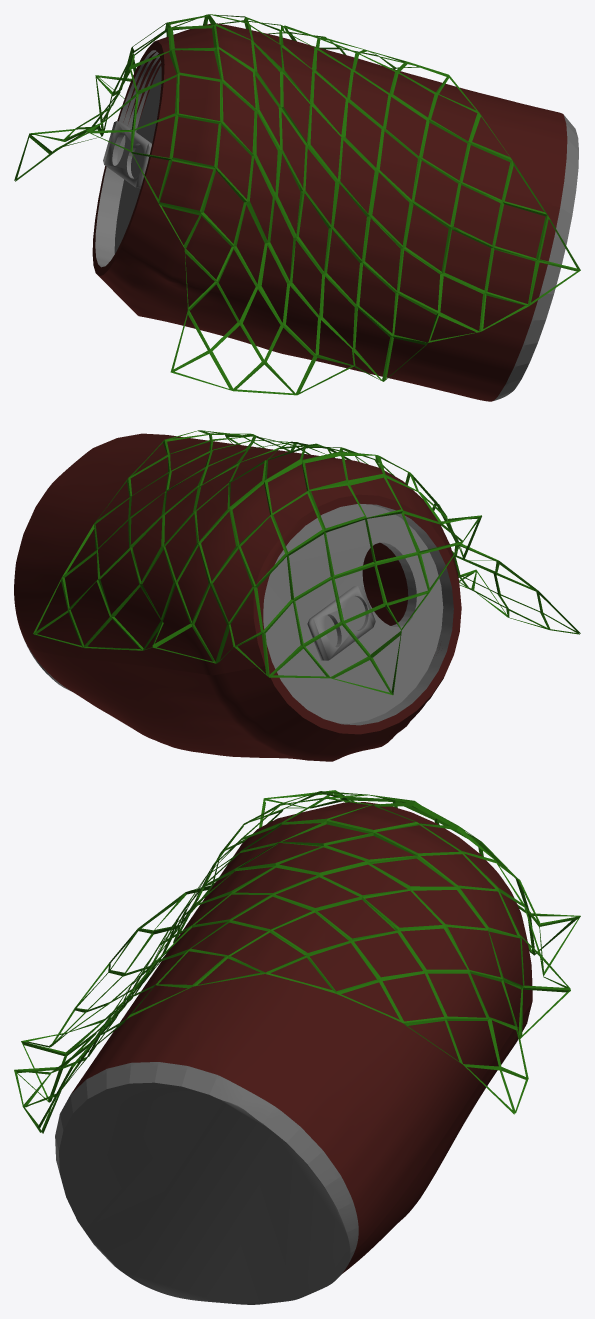
File: bottle.gltf
The picture shows the model from 3 angles, top to bottom: view 1: azimuth 30°, elevation 25°; view 2: azimuth 150°, elevation 25°; view 3: azimuth 270°, elevation 25°; orthographic projection. The views are drawn at different scales.
Parts seen in each view (by area): view 1: Plane; view 2: Plane; view 3: Plane.
Boxes of the visible parts, left/top/right/bottom form: Plane: left=14, top=14, right=580, bottom=401; Plane: left=14, top=430, right=580, bottom=761; Plane: left=14, top=790, right=580, bottom=1304.
Bounding box in the file's own units: 2.06 × 1.48 × 1.93.
